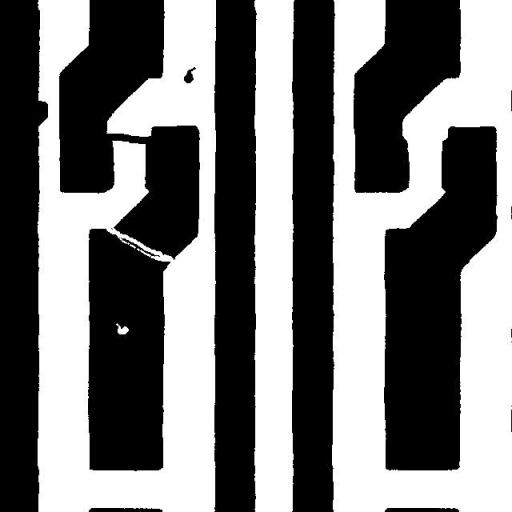copper: (176, 60, 203, 90)
open: (98, 216, 181, 269)
pin-hole: (108, 315, 136, 342)
short: (92, 125, 161, 151)
spur: (26, 92, 55, 134)
